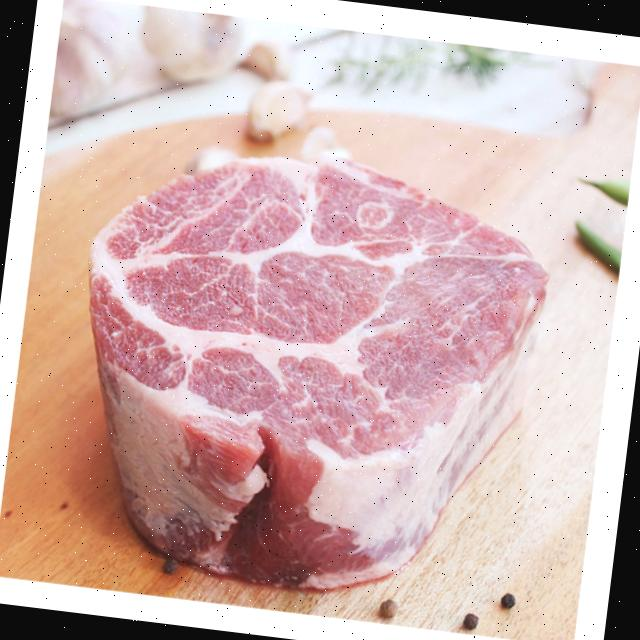meat: (61, 88, 606, 590)
